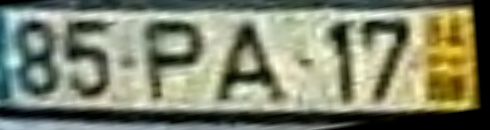1: (321, 18, 361, 110)
5: (64, 18, 114, 103)
7: (359, 18, 418, 109)
8: (7, 18, 64, 101)
A: (212, 20, 294, 105)
P: (139, 21, 209, 105)
